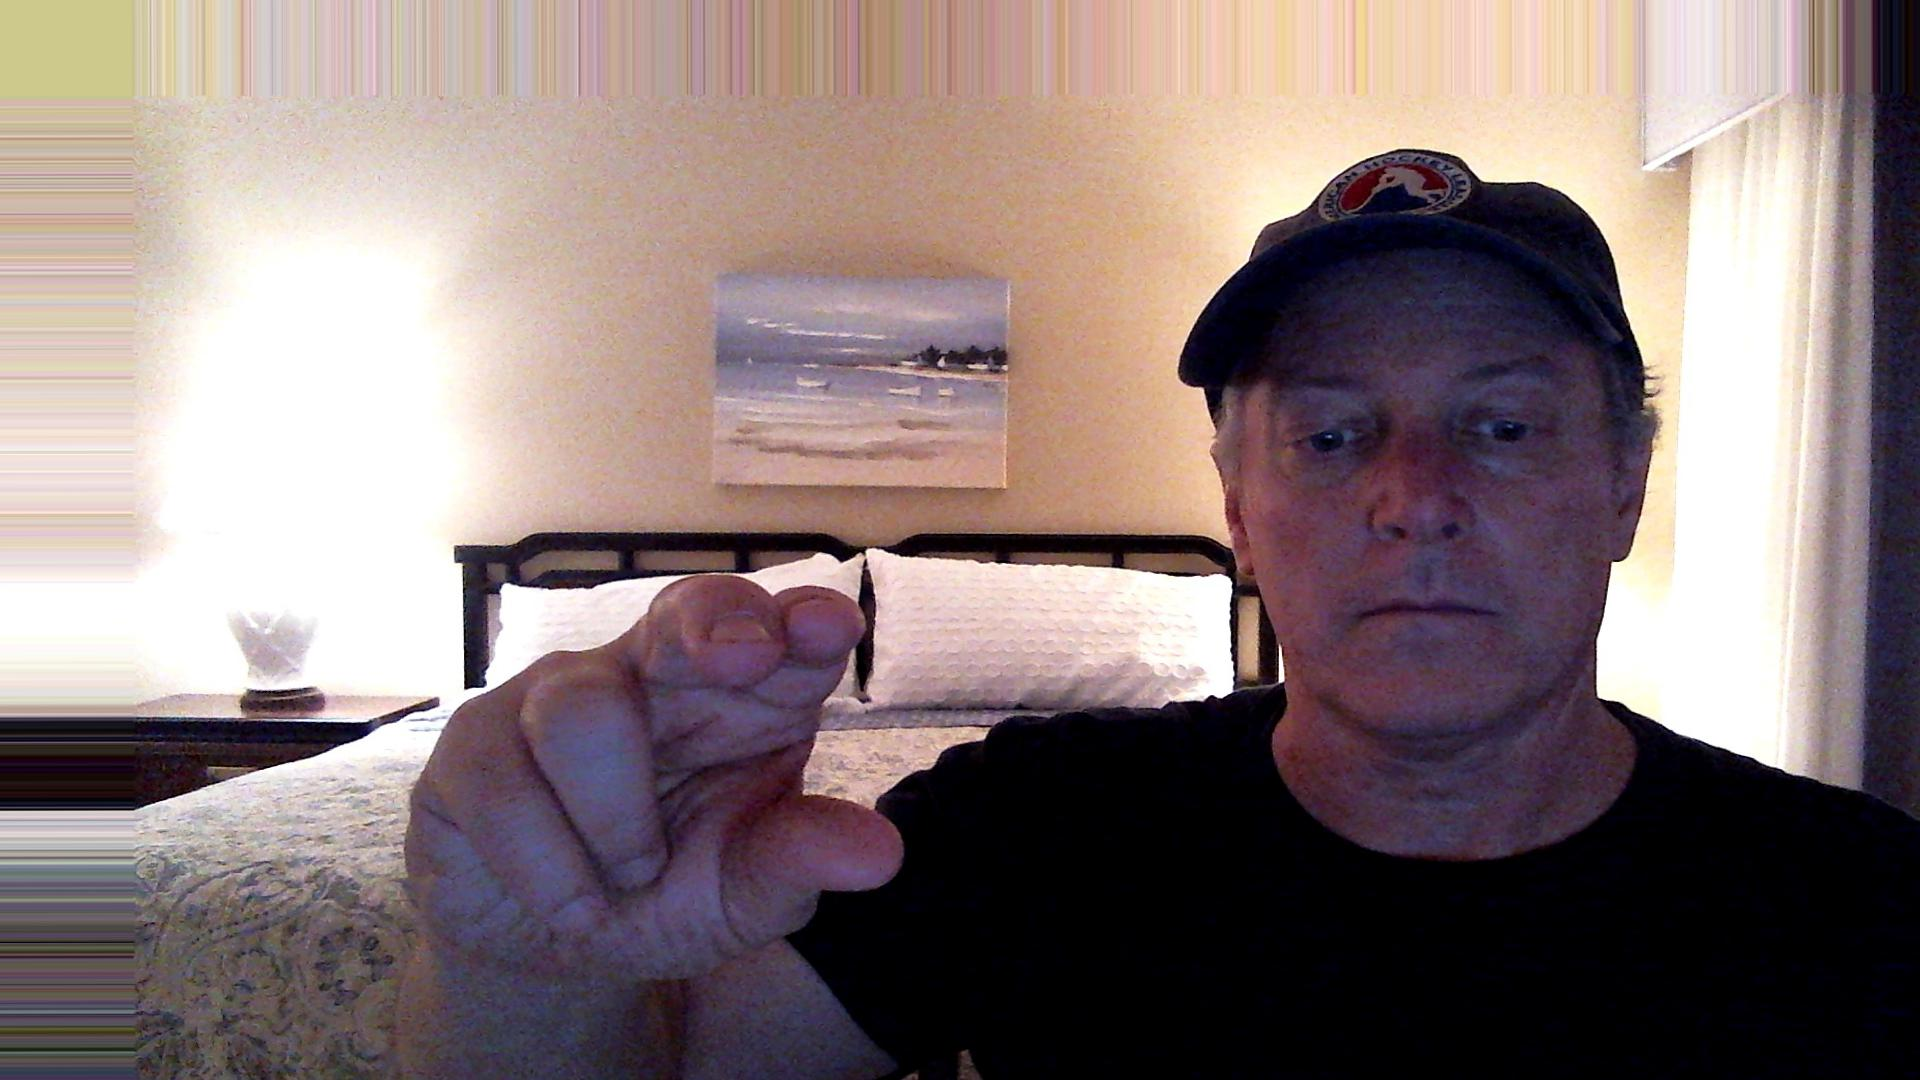No: (404, 556, 935, 1013)
